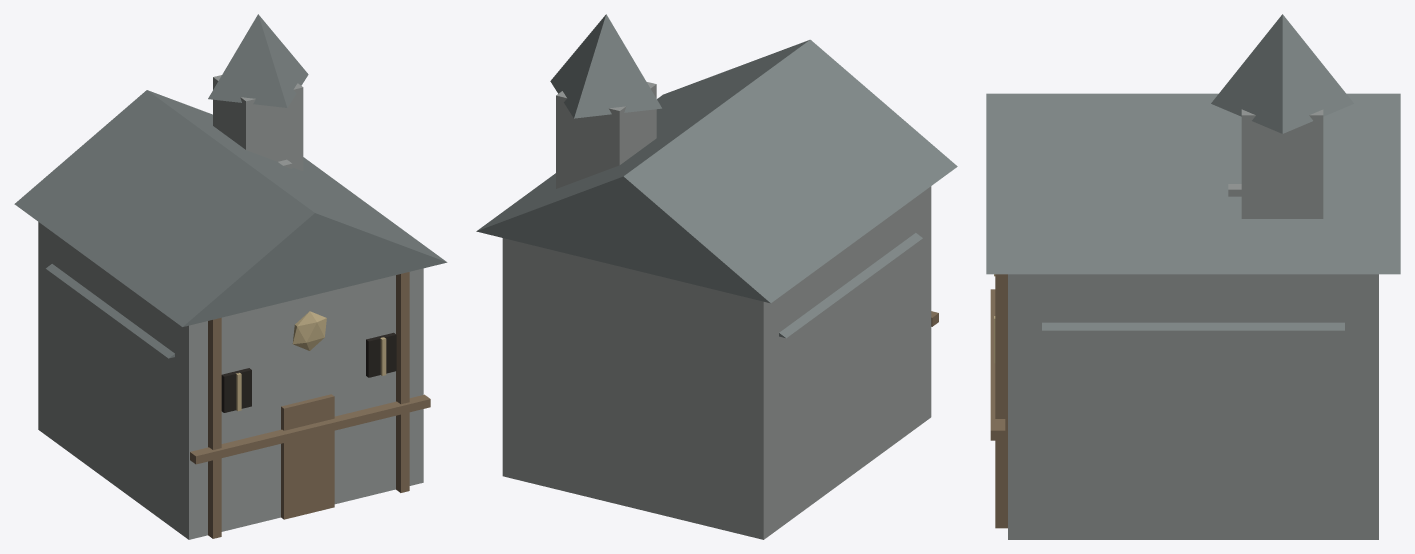
File: props.glb
The picture shows the model from 3 angles, left to right: view 1: azimuth 30°, elevation 25°; view 2: azimuth 150°, elevation 25°; view 3: azimuth 270°, elevation 25°; orthographic projection. The views are drawn at different scales.
Visible parts, largest first — view 1: PROP_001_SanctuaryChapel, PROP_000_RefugeHouse; view 2: PROP_001_SanctuaryChapel, PROP_000_RefugeHouse; view 3: PROP_001_SanctuaryChapel, PROP_000_RefugeHouse.
Part boxes in pixels (x1,y1,x2,y2): PROP_001_SanctuaryChapel: (14,14,447,539); PROP_000_RefugeHouse: (46,159,292,358); PROP_001_SanctuaryChapel: (476,14,957,539); PROP_000_RefugeHouse: (779,233,922,338); PROP_001_SanctuaryChapel: (986,14,1400,539); PROP_000_RefugeHouse: (1042,184,1344,330).
Size of the model in its own units: 3.05 by 4.42 by 3.35.
